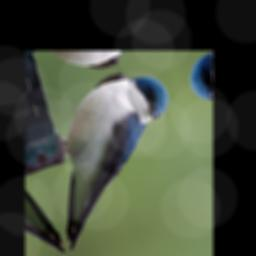Swallow: (27, 58, 201, 252)
